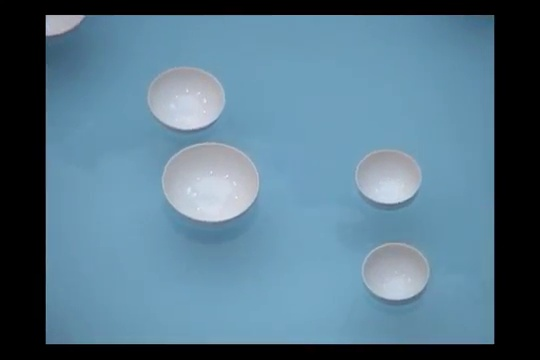bowl: (161, 142, 260, 229), (146, 66, 225, 136), (362, 242, 429, 306), (355, 149, 422, 211), (46, 15, 86, 39)
